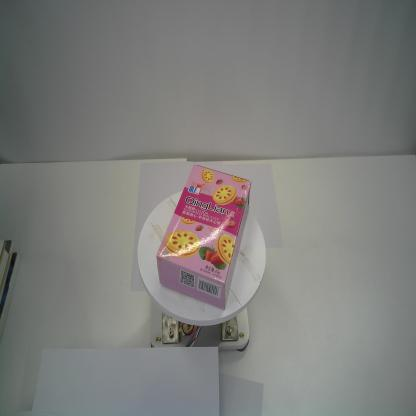Dessert: (156, 163, 252, 312)
